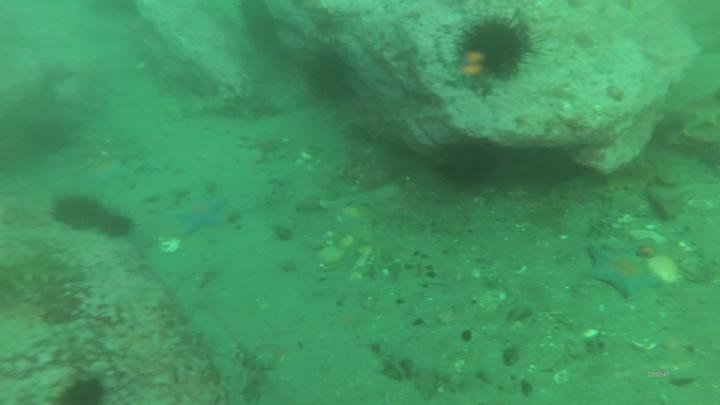echinus: (460, 24, 530, 79), (447, 148, 495, 191), (309, 58, 353, 104), (55, 200, 97, 230), (26, 123, 67, 153), (56, 380, 104, 405), (100, 216, 129, 235)
holothurian: (3, 248, 86, 287)
starfish: (589, 246, 661, 299), (178, 194, 227, 233), (88, 161, 125, 185)
